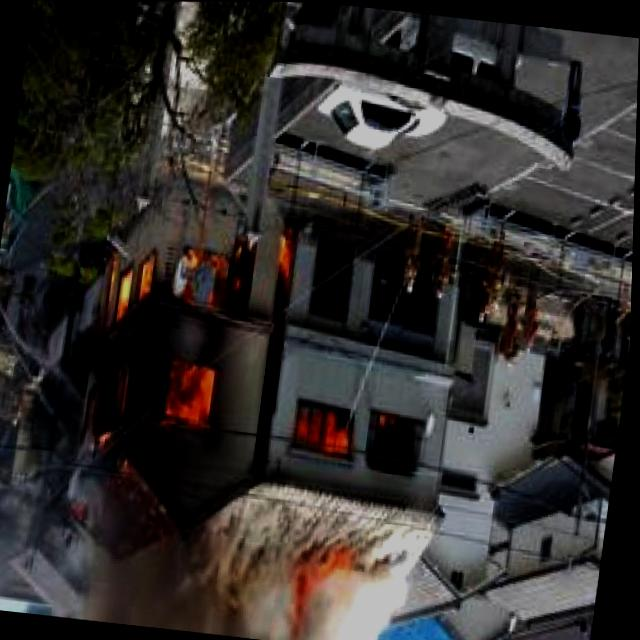Fire: (61, 183, 307, 475), (286, 394, 423, 463), (281, 536, 365, 624)
Smoke: (80, 474, 293, 640), (348, 508, 446, 640)
